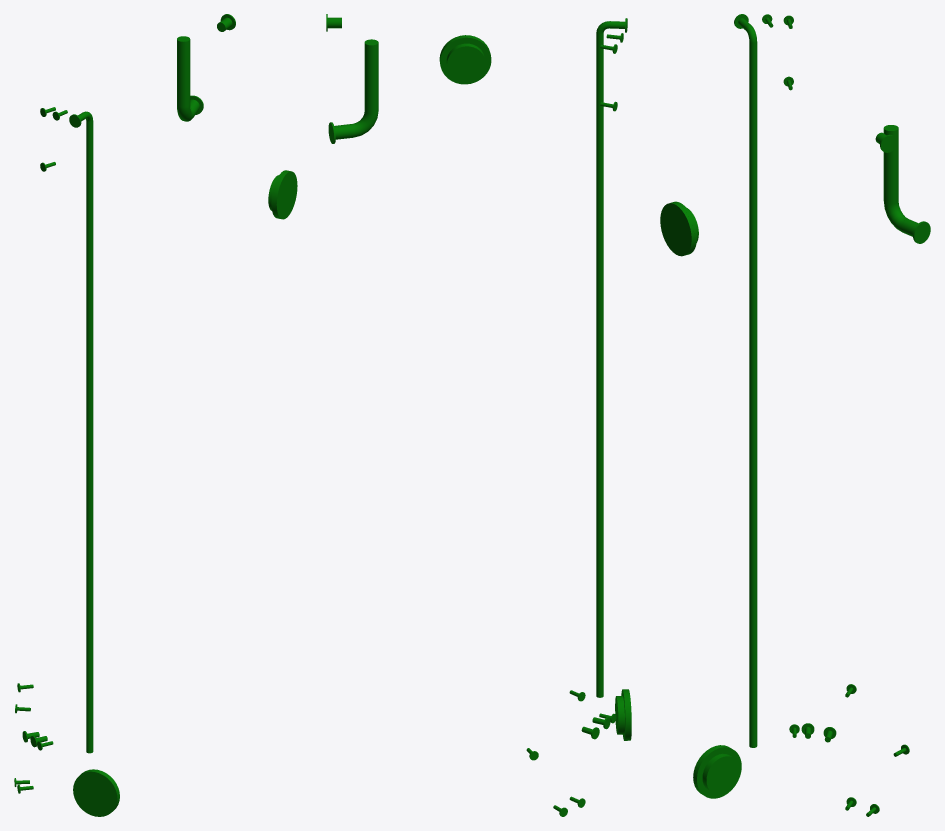
File: Image-1710907553593-2281240264928_62-TA50.fbx
3 views of the same model, side by side, from view 1: azimuth 30°, elevation 25°; view 2: azimuth 150°, elevation 25°; view 3: azimuth 270°, elevation 25° (orthographic). The views are drawn at different scales.
Visible parts, largest first — view 1: CYLINDER 4 of SUBEQUIPMENT /62-TA50/NOZZ, CYLINDER 2 of SUBEQUIPMENT /62-TA50/NOZZ, CYLINDER 6 of SUBEQUIPMENT /62-TA50/NOZZ, CYLINDER 1 of SUBEQUIPMENT /62-TA50/NOZZ; view 2: CYLINDER 4 of SUBEQUIPMENT /62-TA50/NOZZ, /62-TA50/M1, CYLINDER 6 of SUBEQUIPMENT /62-TA50/NOZZ, /62-TA50/M2; view 3: CYLINDER 4 of SUBEQUIPMENT /62-TA50/NOZZ, /62-TA50/M2, CYLINDER 1 of SUBEQUIPMENT /62-TA50/NOZZ, CYLINDER 6 of SUBEQUIPMENT /62-TA50/NOZZ.
Part boxes in pixels (left/top/right/bottom): CYLINDER 4 of SUBEQUIPMENT /62-TA50/NOZZ: left=86, top=121, right=93, bottom=753; CYLINDER 2 of SUBEQUIPMENT /62-TA50/NOZZ: left=73, top=770, right=118, bottom=816; CYLINDER 6 of SUBEQUIPMENT /62-TA50/NOZZ: left=177, top=36, right=190, bottom=107; CYLINDER 1 of SUBEQUIPMENT /62-TA50/NOZZ: left=274, top=170, right=297, bottom=219; CYLINDER 4 of SUBEQUIPMENT /62-TA50/NOZZ: left=596, top=34, right=603, bottom=697; /62-TA50/M1: left=440, top=36, right=491, bottom=84; CYLINDER 6 of SUBEQUIPMENT /62-TA50/NOZZ: left=364, top=39, right=378, bottom=113; /62-TA50/M2: left=615, top=689, right=628, bottom=740; CYLINDER 4 of SUBEQUIPMENT /62-TA50/NOZZ: left=749, top=41, right=757, bottom=747; /62-TA50/M2: left=695, top=746, right=741, bottom=798; CYLINDER 1 of SUBEQUIPMENT /62-TA50/NOZZ: left=660, top=202, right=694, bottom=256; CYLINDER 6 of SUBEQUIPMENT /62-TA50/NOZZ: left=883, top=125, right=898, bottom=204.
Bounding box in the file's own units: 4.5 × 4.01 × 13.07.
